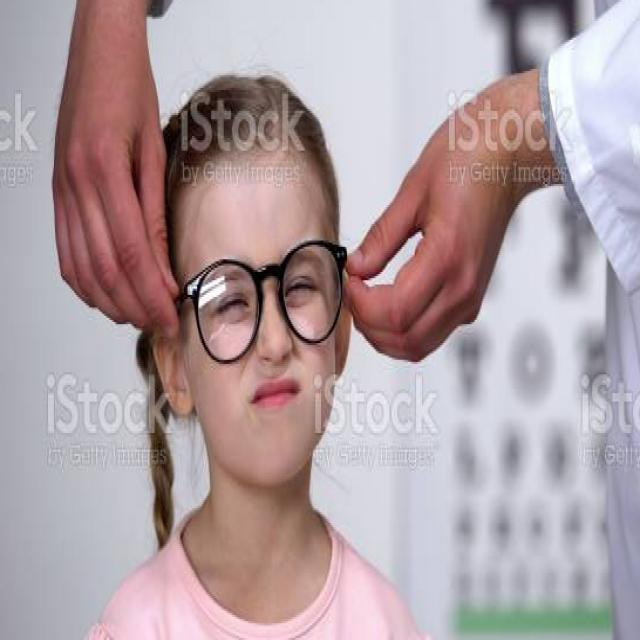Glasses: (180, 237, 349, 369)
